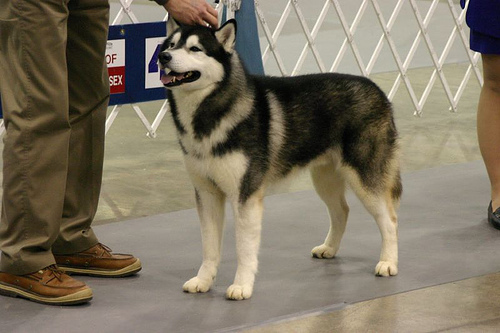dog: (153, 9, 405, 299)
